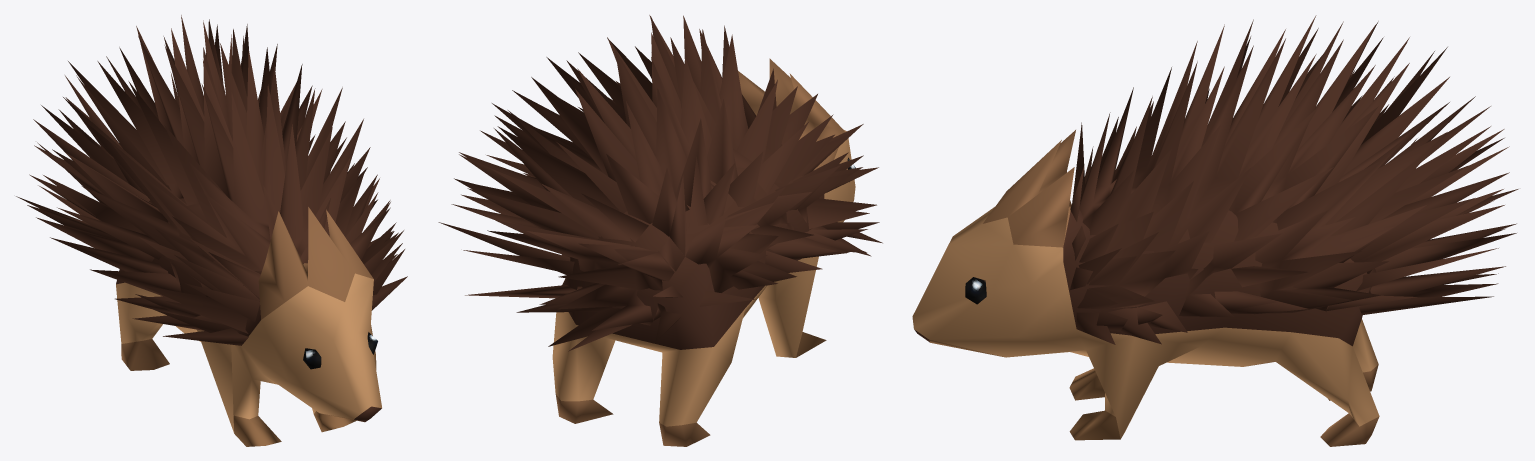
File: d9eb5139-aad8-4eef-ac0e-7958dff8fdda.glb
The picture shows the model from 3 angles, left to right: view 1: azimuth 30°, elevation 25°; view 2: azimuth 150°, elevation 25°; view 3: azimuth 270°, elevation 25°; orthographic projection. The views are drawn at different scales.
Visible parts, largest first — view 1: Porcupine; view 2: Porcupine; view 3: Porcupine.
Boxes of the visible parts, x1,y1,x2,y2 form: Porcupine: (16,15,407,446); Porcupine: (438,15,882,446); Porcupine: (912,15,1518,446).
Size of what is drawn, in the model's own units: 0.7428 by 0.7659 by 1.1.
1 material, 1 textured.
